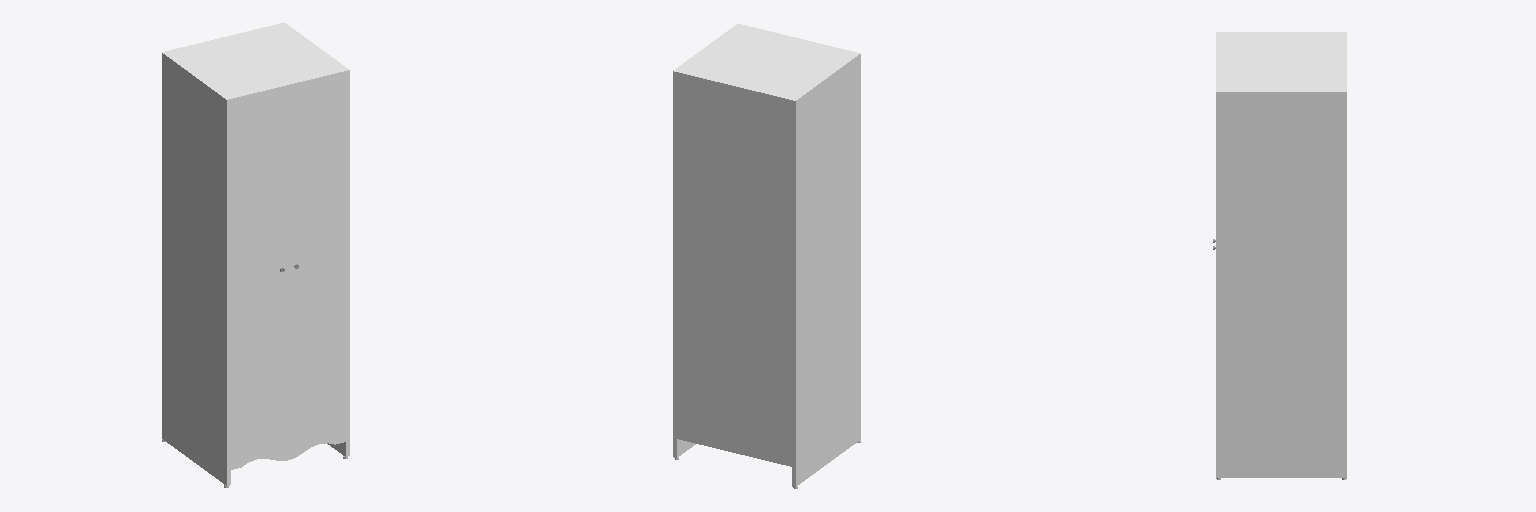
File: StorageFurniture_SolgulWardrobe.obj
3 renders of one model, left to right at view 1: azimuth 30°, elevation 25°; view 2: azimuth 150°, elevation 25°; view 3: azimuth 270°, elevation 25°, orthographic.
Parts seen in each view (by area): view 1: obj_0; view 2: obj_0; view 3: obj_0.
Boxes of the visible parts, x1,y1,x2,y2 form: obj_0: [162, 22, 349, 487]; obj_0: [673, 24, 860, 488]; obj_0: [1213, 32, 1346, 479].
Bounding box in the file's own units: 60.5 × 181 × 56.27.